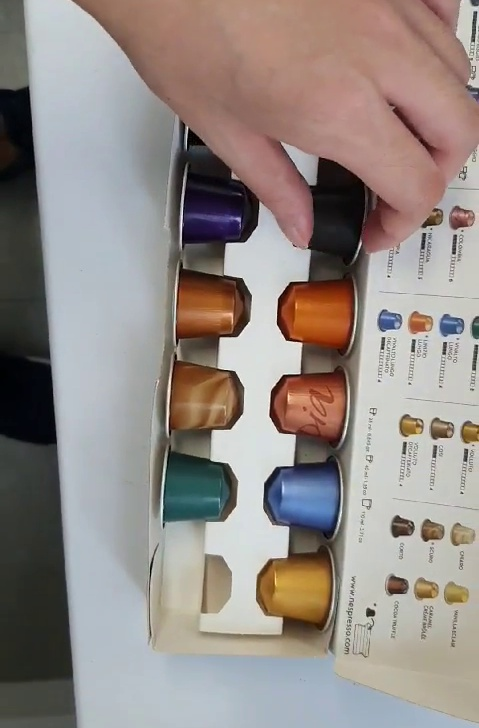capsule_4: (284, 167, 380, 270)
